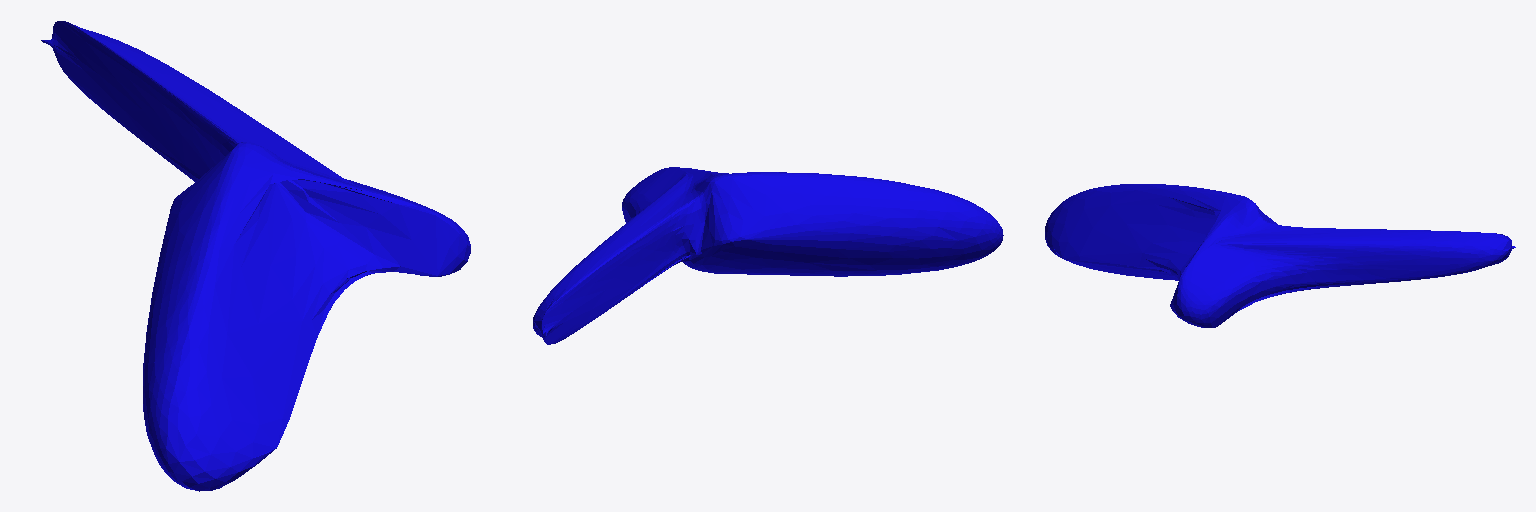
URDF robot description (blob760):

<robot name="blob760">
  <link name="random_obj_760">
    <contact>
      <lateral_friction value="1.0"/>
      <rolling_friction value="0.0"/>
      <inertia_scaling value="3.0"/>
      <contact_cfm value="0.0"/>
      <contact_erp value="1.0"/>
    </contact>
    <inertial>
      <origin rpy="0 0 0" xyz="0 0 0"/>
      <mass value="0.1393"/>
      <inertia ixx="1" ixy="0" ixz="0" iyy="1" iyz="0" izz="0"/>
    </inertial>
    <visual>
      <origin rpy="0 0 0" xyz="0 0 0"/>
      <geometry>
        <mesh filename="760.obj" scale="0.0066 0.0066 0.0066"/>
      </geometry>
      <material name="blockmat">
        <color rgba="0.11 0.08 0.90 1"/>
      </material>
    </visual>
    <collision>
      <origin rpy="0 0 0" xyz="0 0 0"/>
      <geometry>
        <mesh filename="760_coll.obj" scale="0.0066 0.0066 0.0066"/>
      </geometry>
    </collision>
  </link>
</robot>

--- Render facts (derived) ---
The picture shows the robot from 3 angles, left to right: view 1: azimuth 30°, elevation 25°; view 2: azimuth 150°, elevation 25°; view 3: azimuth 270°, elevation 25°; orthographic projection.
Model blob760 with 1 links and 0 joints (none), rooted at random_obj_760, posed all joints at 0.
Links seen in each view (by area): view 1: random_obj_760; view 2: random_obj_760; view 3: random_obj_760.
Boxes of the visible links, x1=… form: random_obj_760: x1=41, y1=21, x2=470, y2=491; random_obj_760: x1=533, y1=167, x2=1003, y2=344; random_obj_760: x1=1045, y1=184, x2=1515, y2=327.
Size in the robot's own frame: 0.0747 by 0.1233 by 0.0324 metres.
Meshes: 1 distinct files referenced, 1 mesh visuals loaded (1 OBJ).
